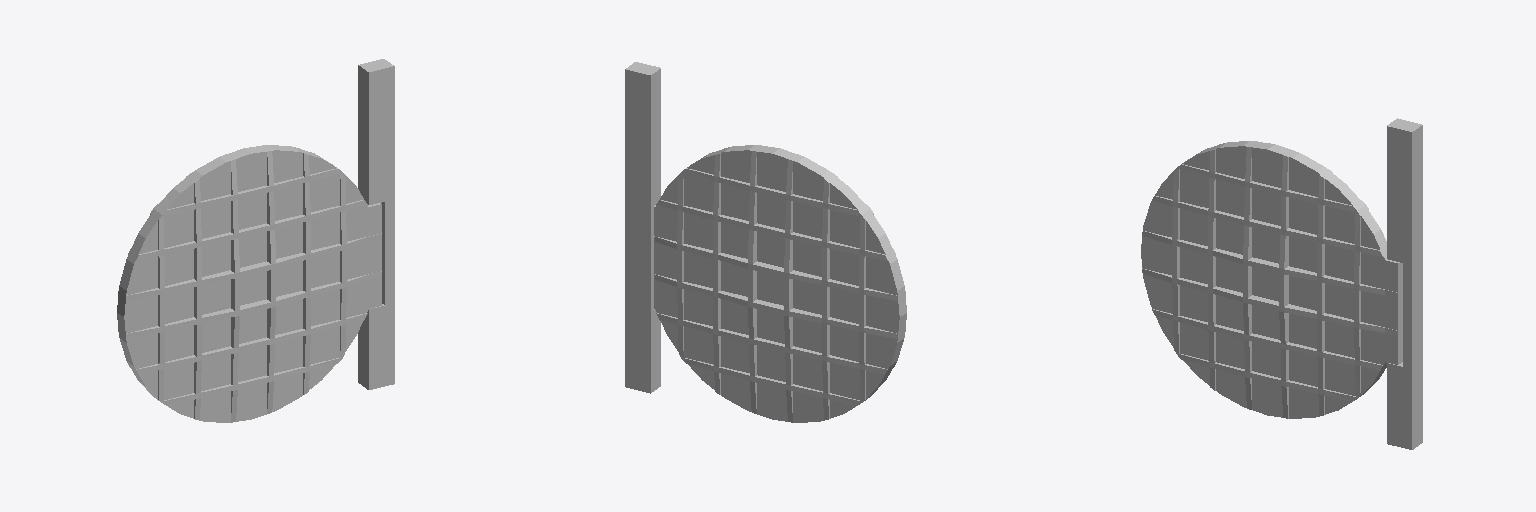
Rendered from water_gate.obj.
3 views of the same model, side by side, from view 1: azimuth 30°, elevation 25°; view 2: azimuth 150°, elevation 25°; view 3: azimuth 330°, elevation 25° (orthographic).
Bounding box in the file's own units: 4.26 × 4.78 × 0.4433.